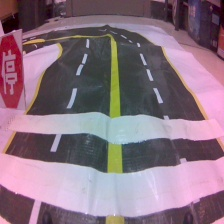stop: (1, 27, 29, 112)
